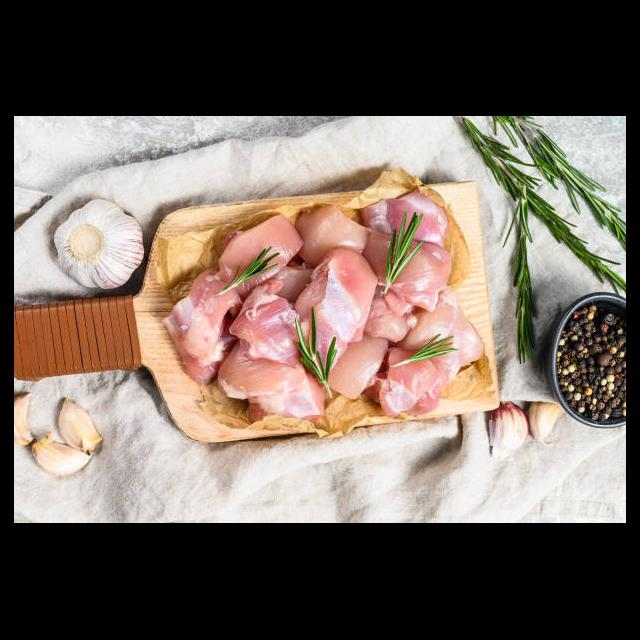chicken: (161, 192, 485, 417)
